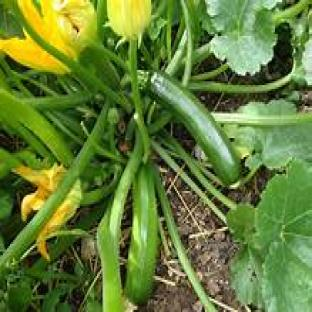Zucchini: (147, 72, 240, 185), (126, 165, 158, 304)
